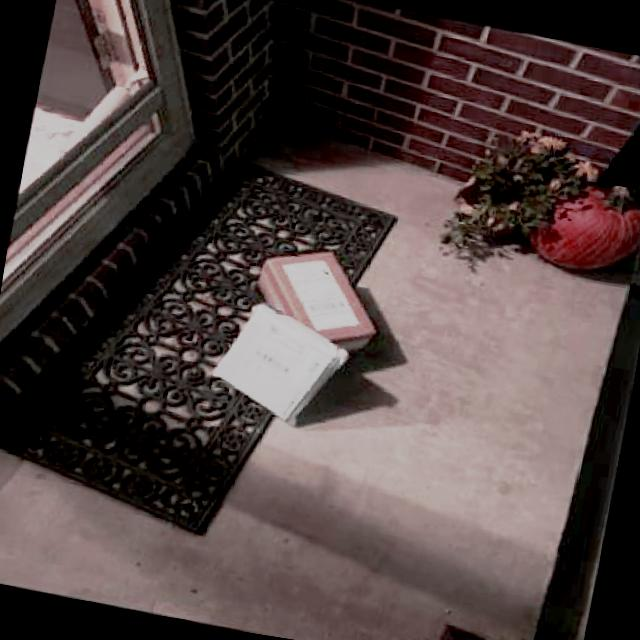Box: (203, 296, 356, 438), (246, 238, 389, 364)
